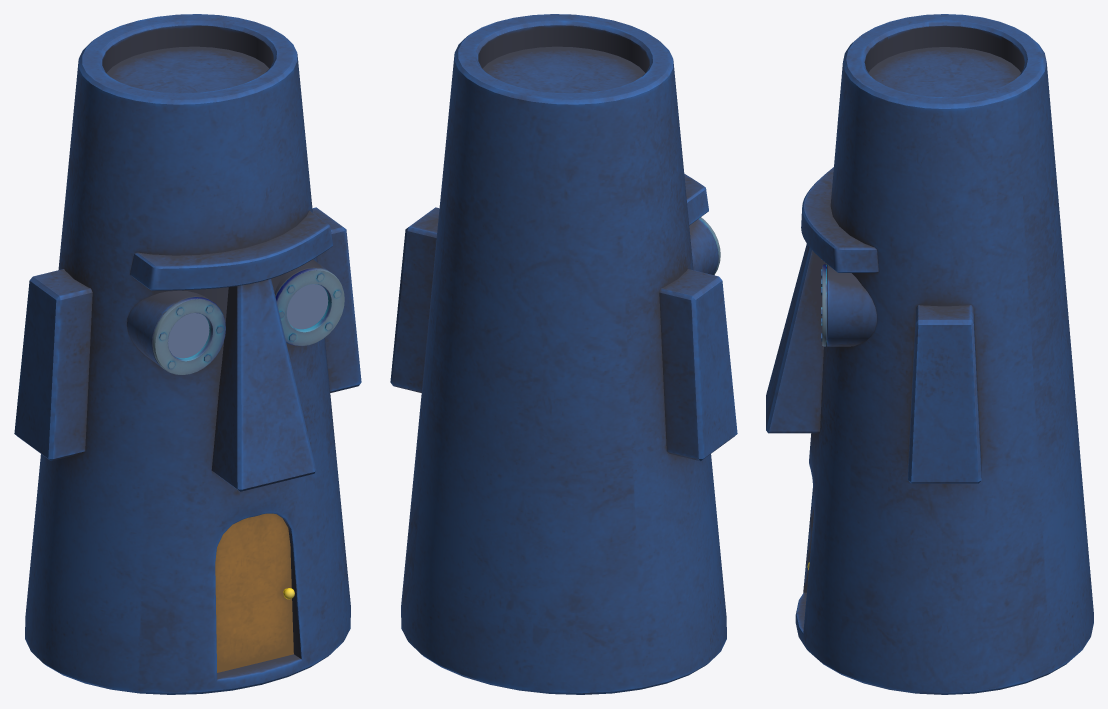
Rendered from Torre1_h8.obj.
3 renders of one model, left to right at view 1: azimuth 30°, elevation 25°; view 2: azimuth 150°, elevation 25°; view 3: azimuth 270°, elevation 25°, orthographic.
Visible parts, largest first — view 1: House_Cube.003; view 2: House_Cube.003; view 3: House_Cube.003.
Boxes of the visible parts, <box> form: House_Cube.003: <box>14,14,361,694</box>; House_Cube.003: <box>390,14,737,694</box>; House_Cube.003: <box>766,14,1093,694</box>.
Bounding box in the file's own units: 1.45 × 2.53 × 1.33.
